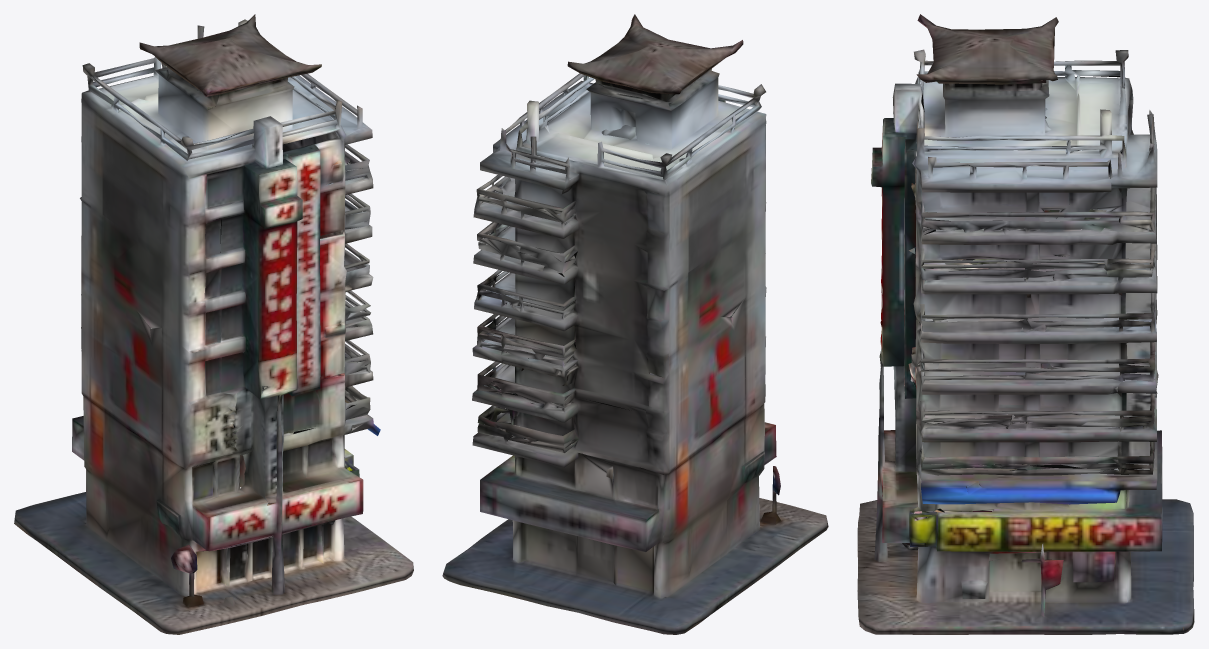
The model's file is bldg_zakkyo.glb.
The picture shows the model from 3 angles, left to right: view 1: azimuth 30°, elevation 25°; view 2: azimuth 150°, elevation 25°; view 3: azimuth 270°, elevation 25°; orthographic projection. The views are drawn at different scales.
Visible parts, largest first — view 1: bldg_zakkyo; view 2: bldg_zakkyo; view 3: bldg_zakkyo.
Part boxes in pixels (box(x1,y1,x2,y2)): bldg_zakkyo: box(14, 14, 413, 634); bldg_zakkyo: box(442, 14, 828, 634); bldg_zakkyo: box(857, 14, 1194, 634).
Bounding box in the file's own units: 14.53 × 28 × 16.14.
Materials: 1 (1 with a texture image).
